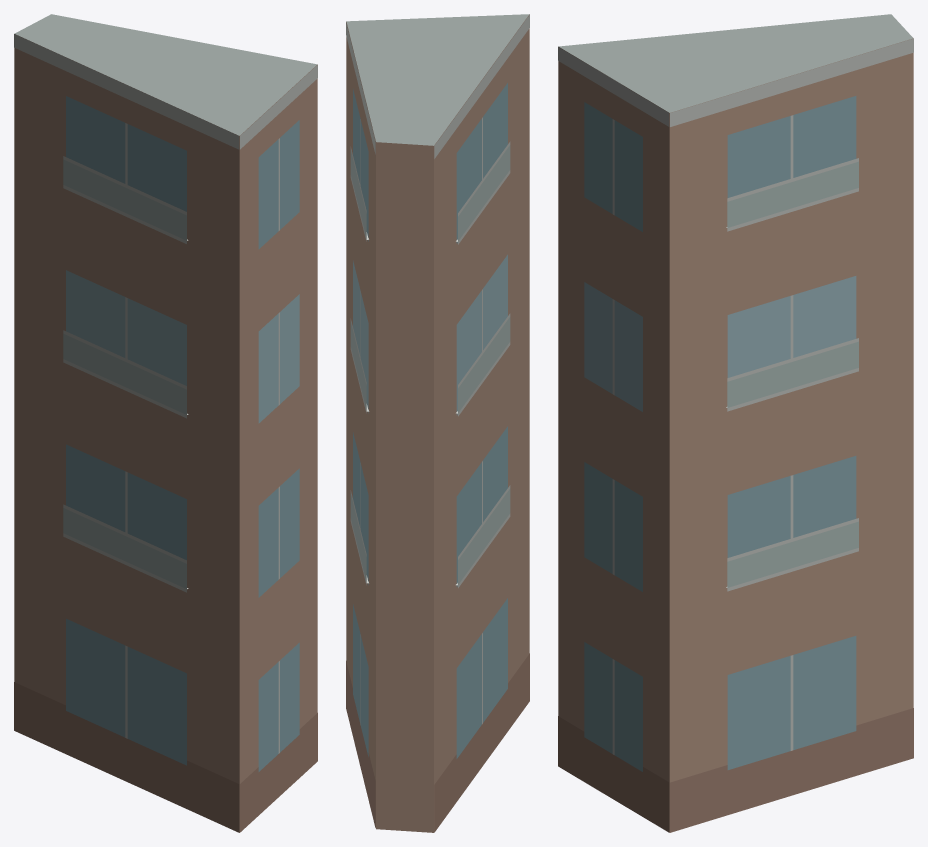
Rendered from survey-upis-32697293.glb.
3 views of the same model, side by side, from view 1: azimuth 30°, elevation 25°; view 2: azimuth 150°, elevation 25°; view 3: azimuth 270°, elevation 25° (orthographic). The views are drawn at different scales.
Visible parts, largest first — view 1: survey-upis-32697293.tmp; view 2: survey-upis-32697293.tmp; view 3: survey-upis-32697293.tmp.
Part boxes in pixels (x1,y1,x2,y2): survey-upis-32697293.tmp: (14,14,317,832); survey-upis-32697293.tmp: (346,14,529,832); survey-upis-32697293.tmp: (558,14,913,832).
Size of the model in its own units: 3.6 by 12.2 by 5.46.
